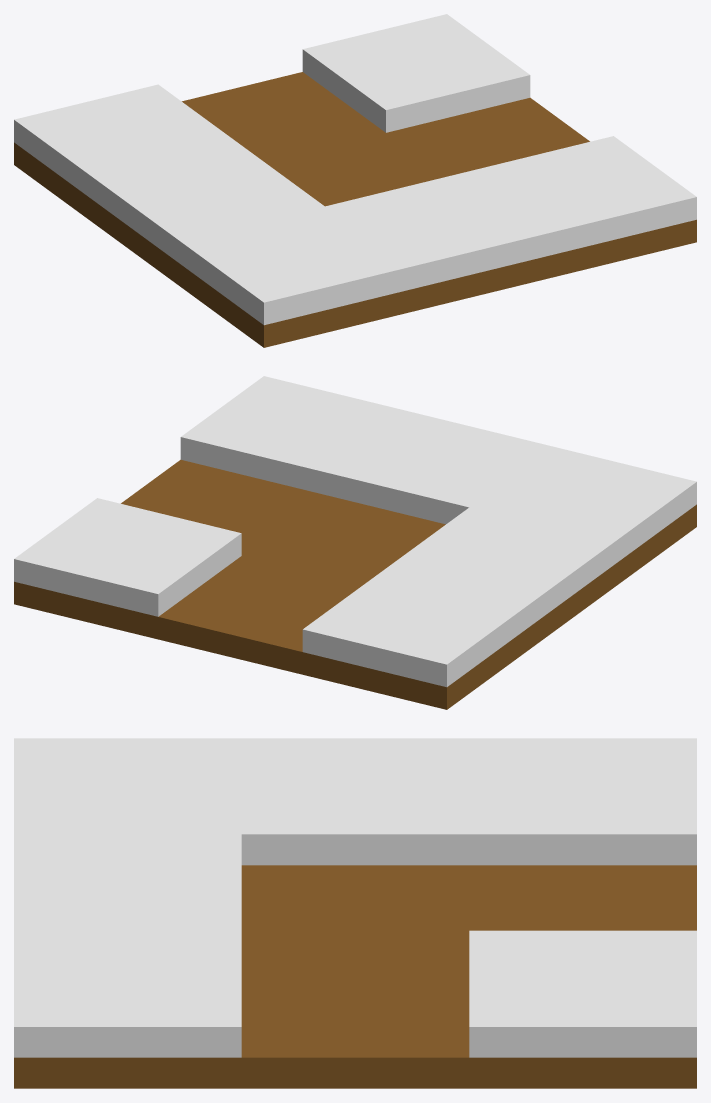
The model's file is WinterCurve.fbx.
3 renders of one model, top to bottom at view 1: azimuth 30°, elevation 25°; view 2: azimuth 150°, elevation 25°; view 3: azimuth 270°, elevation 25°, orthographic. The views are drawn at different scales.
Visible parts, largest first — view 1: WinterCurve; view 2: WinterCurve; view 3: WinterCurve.
Part boxes in pixels (left/top/right/bottom): WinterCurve: left=14, top=14, right=696, bottom=347; WinterCurve: left=14, top=376, right=696, bottom=709; WinterCurve: left=14, top=738, right=696, bottom=1088.
Size of the model in its own units: 1 by 0.1 by 1.
